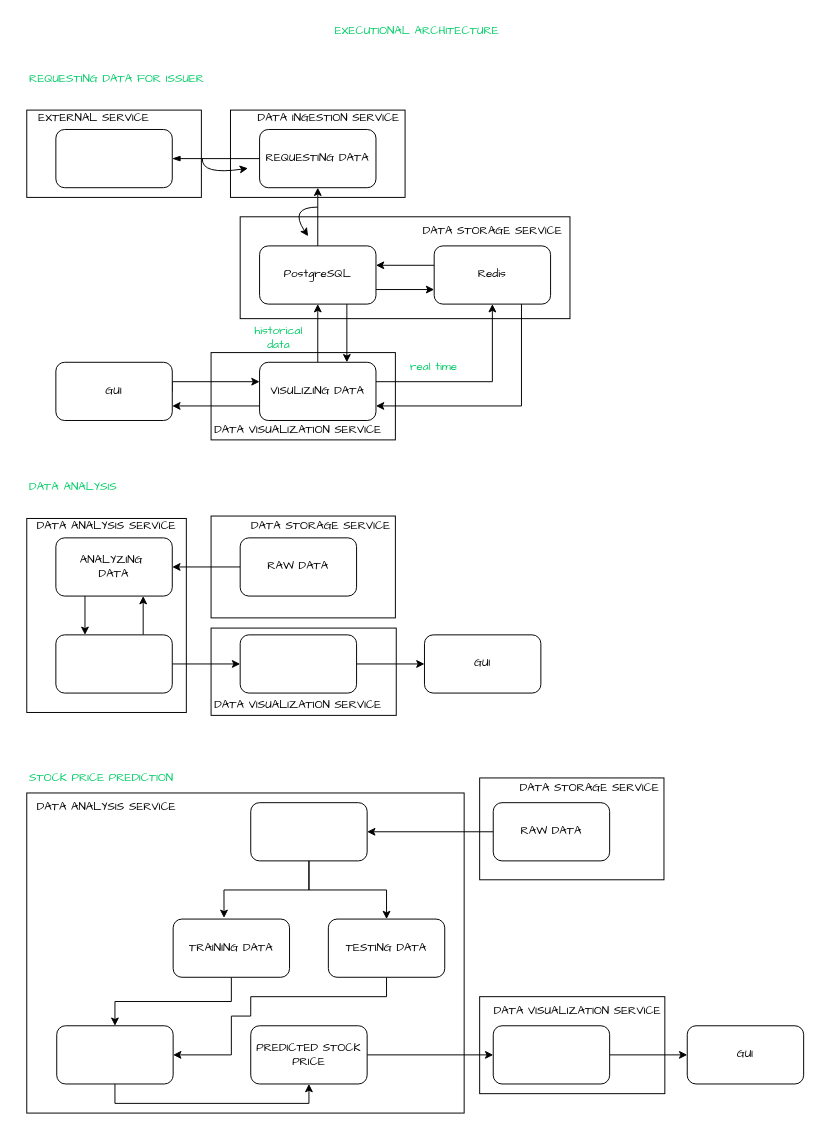
Some shapes in this 822 by 1130 pixel diagram are drawn without their labels. Here are the shapes that lost their labels. From the top down, the box of each, then its label:
(55, 129, 172, 188): FINANCE API
(55, 634, 172, 693): ANALYSIS INDICATORS
(239, 634, 357, 693): INDICATOR VIZUALIZATION
(250, 802, 367, 861): FEATURE EXTRACTION
(56, 1025, 173, 1084): TRAINED DATA RESULT
(492, 1025, 610, 1084): VISUALIZING PREDICTION
